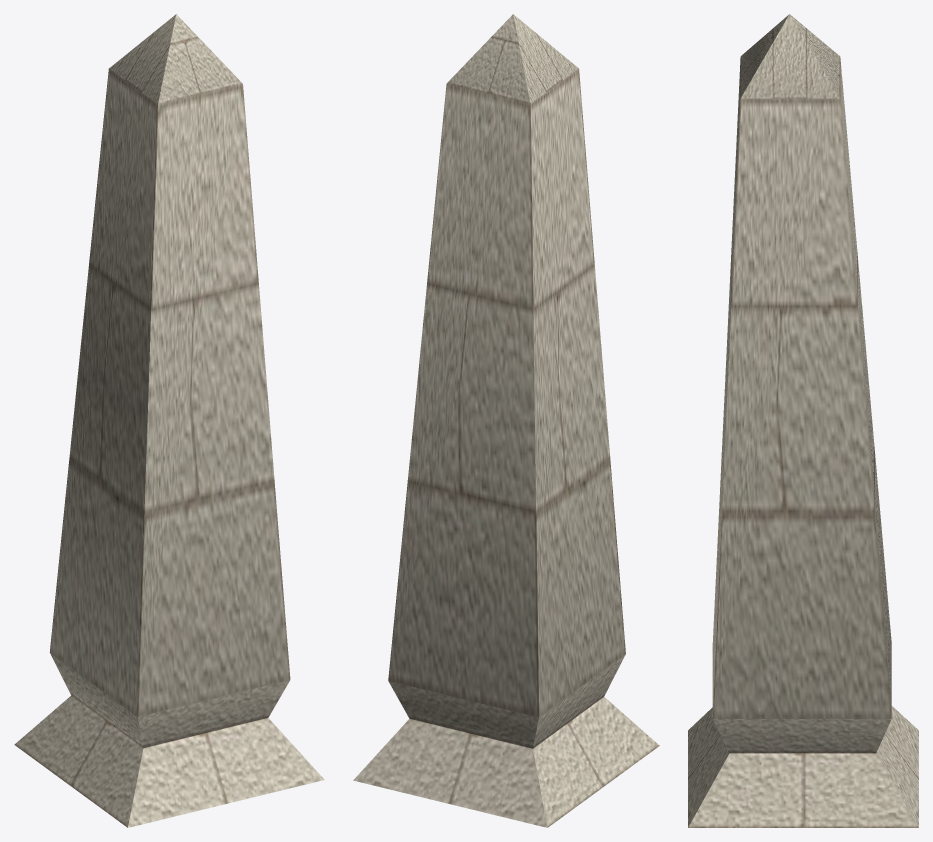
The model's file is obelisk.fbx.
The picture shows the model from 3 angles, left to right: view 1: azimuth 30°, elevation 25°; view 2: azimuth 150°, elevation 25°; view 3: azimuth 270°, elevation 25°; orthographic projection. The views are drawn at different scales.
Visible parts, largest first — view 1: pCube82; view 2: pCube82; view 3: pCube82.
Part boxes in pixels (box(x1,y1,x2,y2)): pCube82: box(14, 14, 324, 827); pCube82: box(353, 14, 659, 827); pCube82: box(688, 14, 918, 827).
Size of the model in its own units: 3.5 by 12.8 by 3.5.
